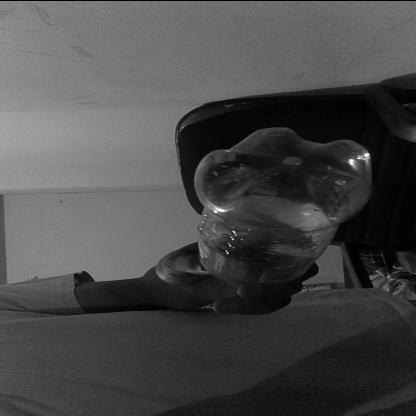plastic_bottles: (192, 124, 372, 284)
